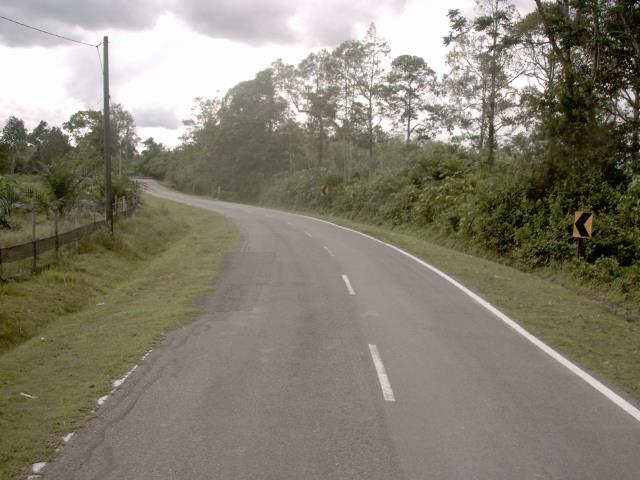traffic_sign: (565, 203, 602, 246)
